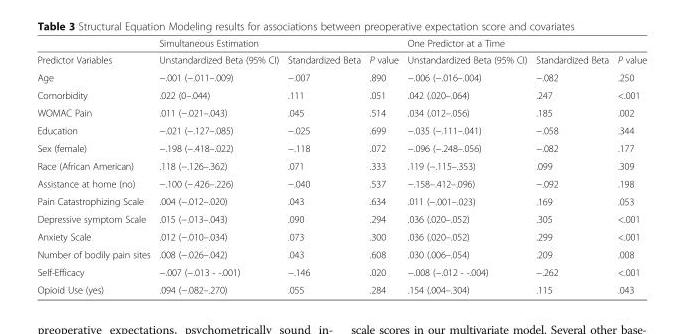table: (36, 37, 646, 295)
table column: (154, 37, 282, 295), (402, 37, 530, 295), (36, 37, 154, 295), (282, 37, 364, 295), (530, 37, 612, 295), (364, 37, 402, 295), (612, 37, 646, 295)
table column header: (36, 37, 646, 68)
table row: (36, 85, 646, 103), (36, 103, 646, 121), (36, 138, 646, 156), (36, 156, 646, 174), (36, 191, 646, 209), (36, 209, 646, 227), (36, 227, 646, 245), (36, 262, 646, 280), (36, 51, 646, 68), (36, 68, 646, 85), (36, 121, 646, 138), (36, 174, 646, 191), (36, 245, 646, 262), (36, 280, 646, 295), (36, 37, 646, 51)
table spanning cell: (36, 37, 154, 68), (154, 37, 402, 51), (402, 37, 646, 51)
